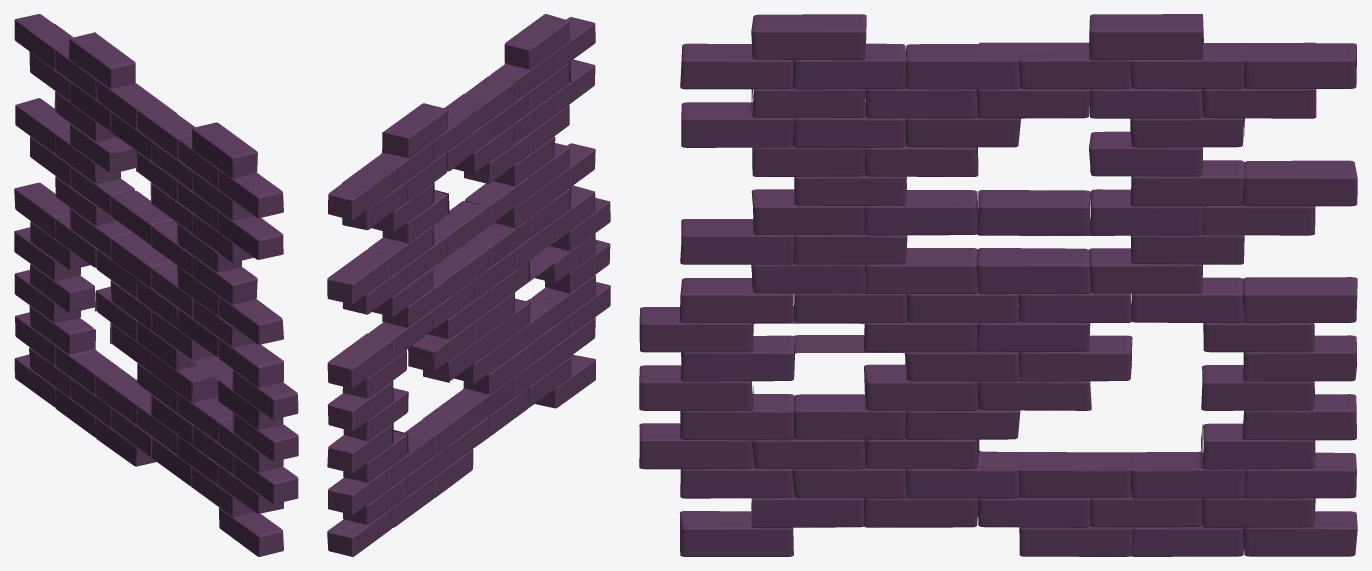
File: Brick Wall.glb
3 renders of one model, left to right at view 1: azimuth 30°, elevation 25°; view 2: azimuth 150°, elevation 25°; view 3: azimuth 270°, elevation 25°, orthographic. The views are drawn at different scales.
Parts seen in each view (by area): view 1: Cube.001; view 2: Cube.001; view 3: Cube.001.
Part boxes in pixels (x1=…): Cube.001: x1=14, y1=14, x2=298, y2=556; Cube.001: x1=327, y1=14, x2=610, y2=556; Cube.001: x1=639, y1=14, x2=1357, y2=556.
Size of the model in its own units: 0.7643 by 10.33 by 12.77.
